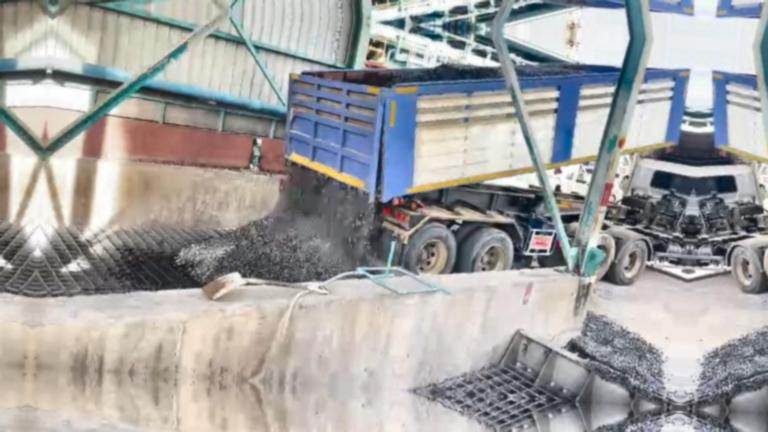gravel: (174, 168, 374, 283), (566, 313, 677, 402), (384, 63, 502, 86), (515, 64, 584, 78)
